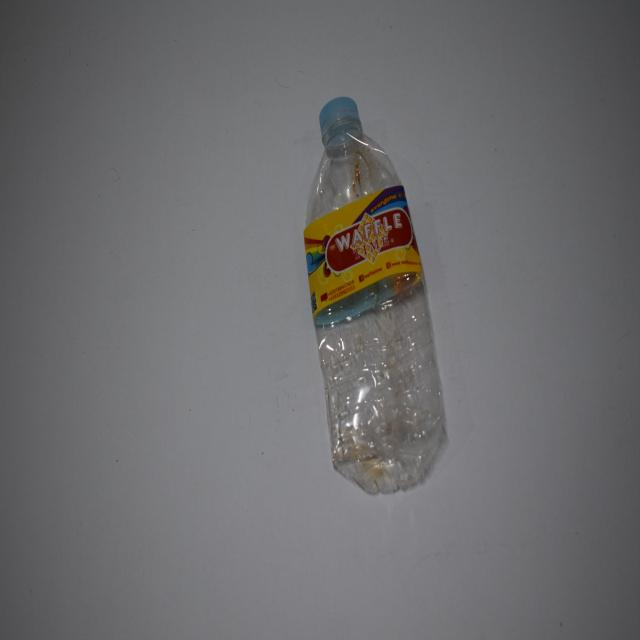plastic: (301, 90, 448, 499)
